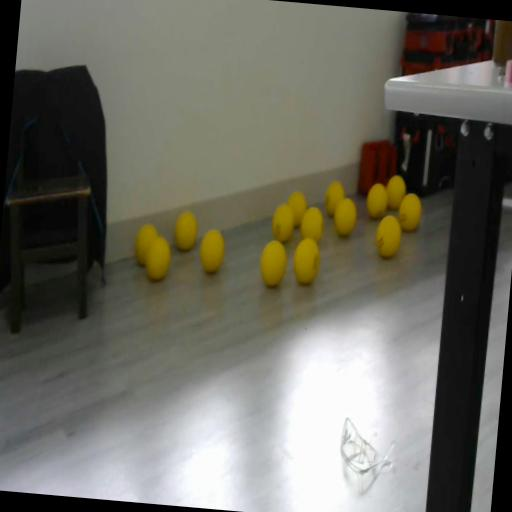FUEL: (290, 236, 322, 286), (258, 238, 288, 288), (198, 228, 226, 274), (374, 214, 403, 258), (132, 222, 160, 267), (298, 204, 326, 246), (172, 210, 200, 252), (397, 192, 423, 232), (365, 182, 390, 220), (322, 179, 346, 218), (384, 174, 408, 212), (285, 190, 308, 228)
